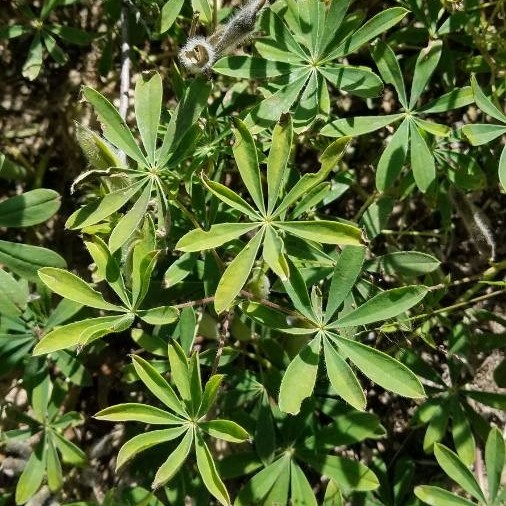obstacle: (64, 88, 428, 396), (57, 234, 240, 479), (256, 9, 479, 177)
